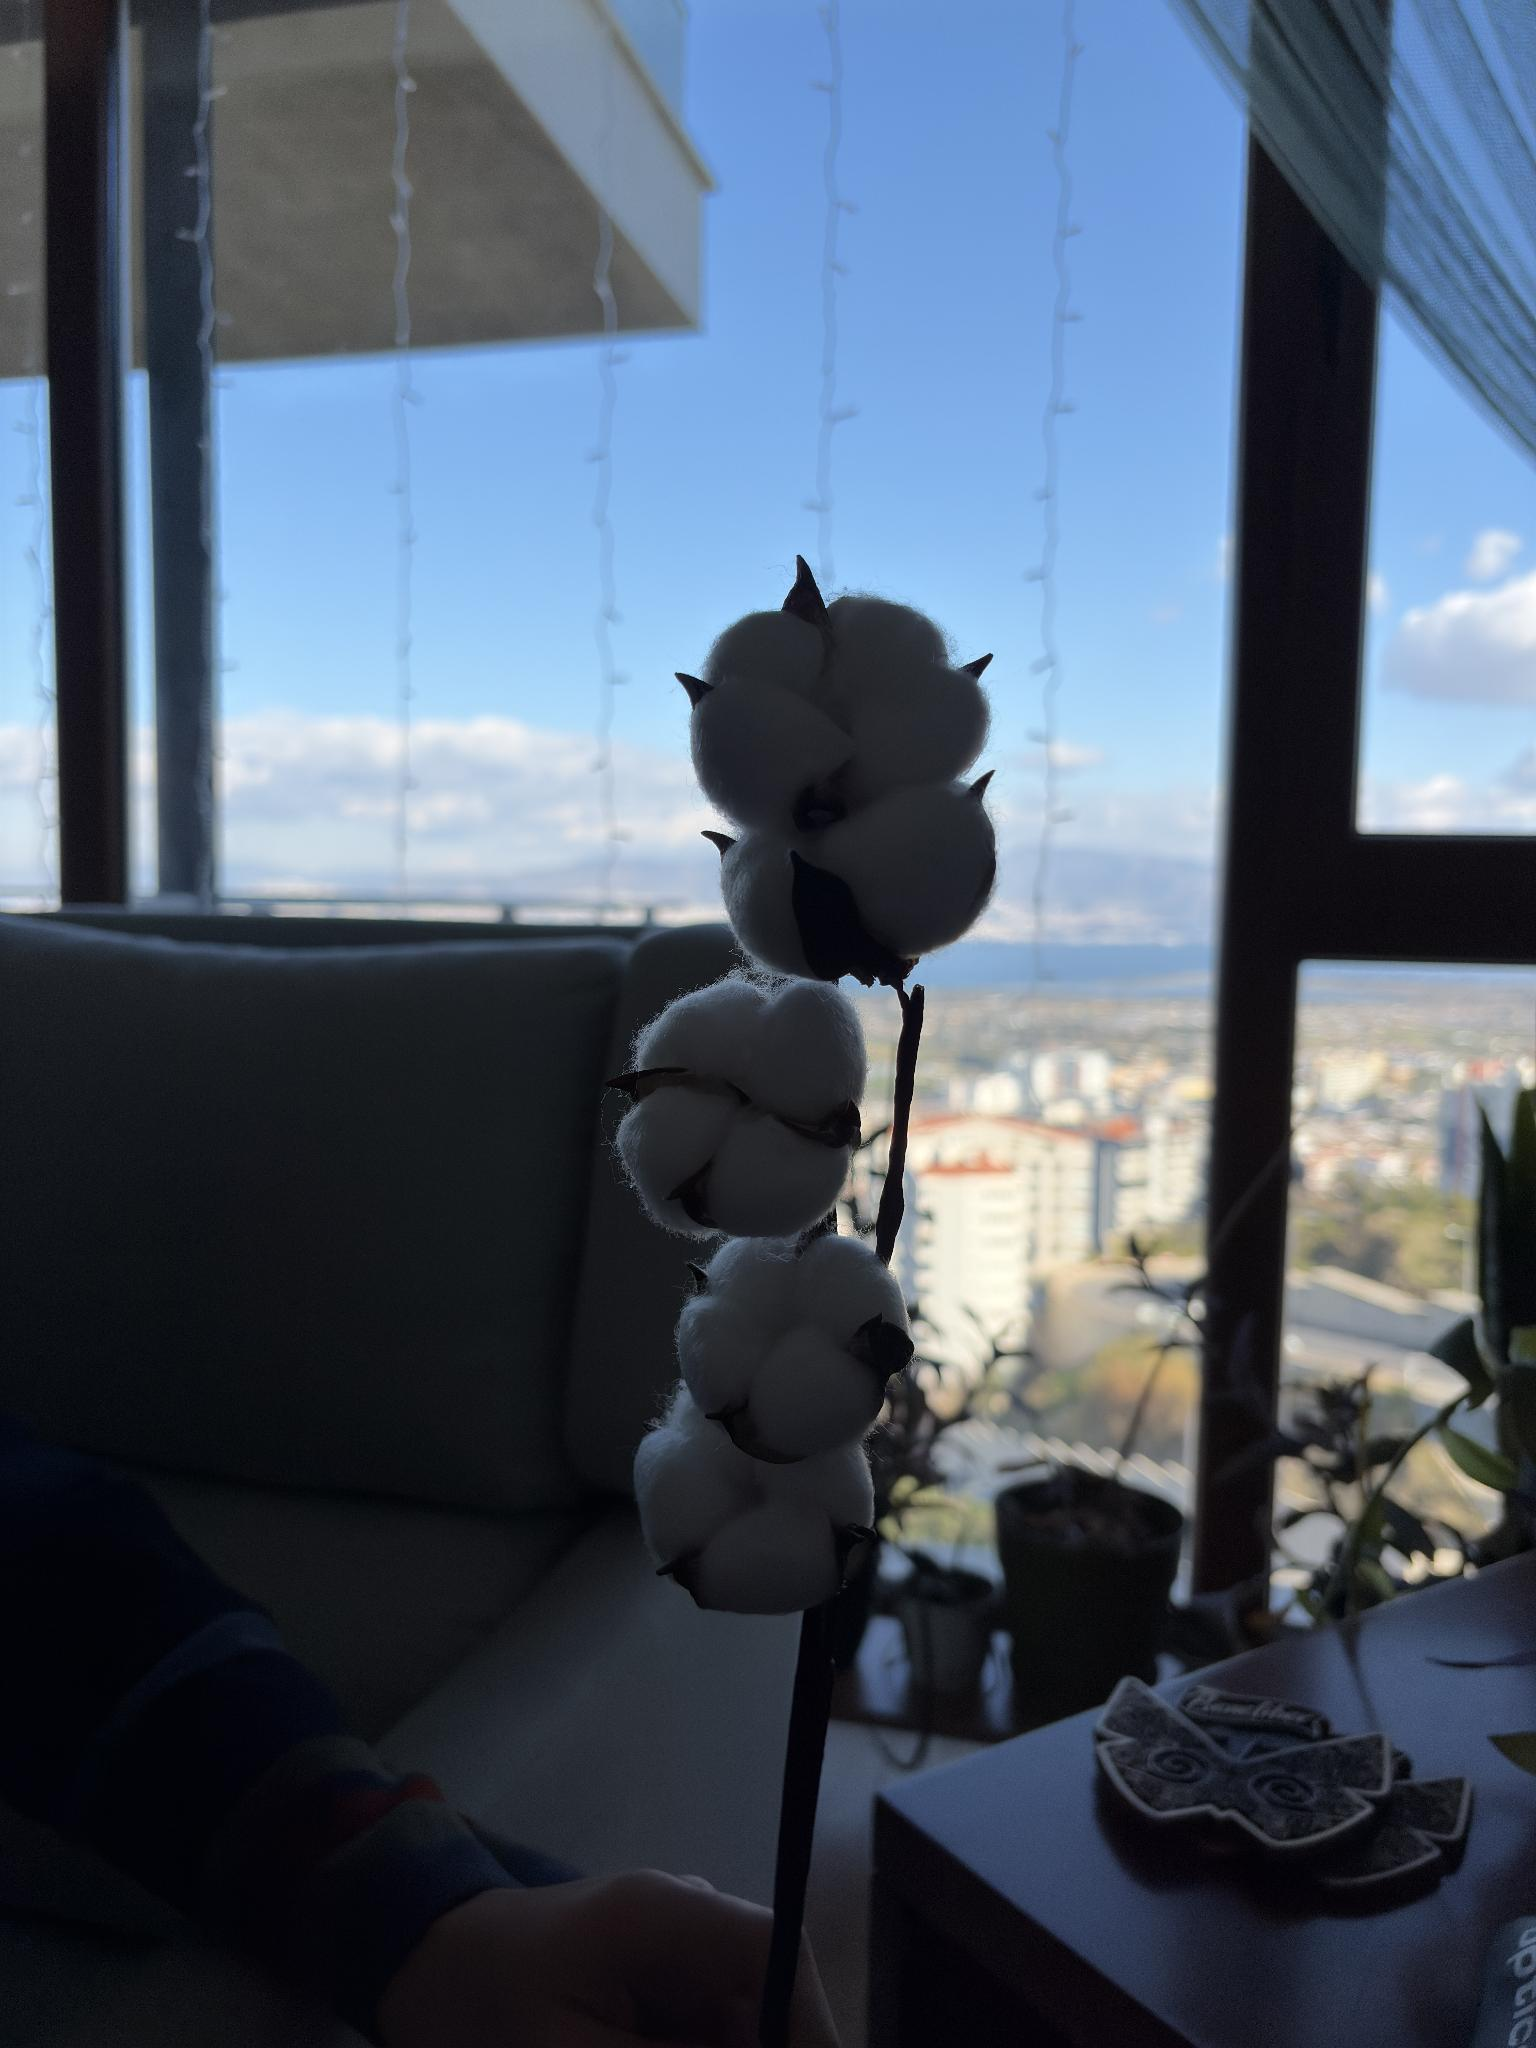cotton_boll: (805, 782, 995, 956), (691, 677, 854, 837), (844, 656, 989, 808), (636, 1393, 755, 1566), (747, 1322, 895, 1456), (674, 1501, 841, 1614), (699, 1114, 847, 1237), (741, 980, 866, 1124), (823, 595, 949, 731), (721, 830, 833, 979), (616, 1085, 734, 1221), (634, 976, 763, 1089), (791, 1235, 908, 1348), (678, 1293, 773, 1413), (745, 1442, 873, 1529), (703, 610, 824, 700), (692, 1238, 802, 1334)
cotton_boll-cluster: (671, 587, 1013, 984), (610, 971, 879, 1250), (673, 1224, 920, 1464), (624, 1400, 884, 1624)
